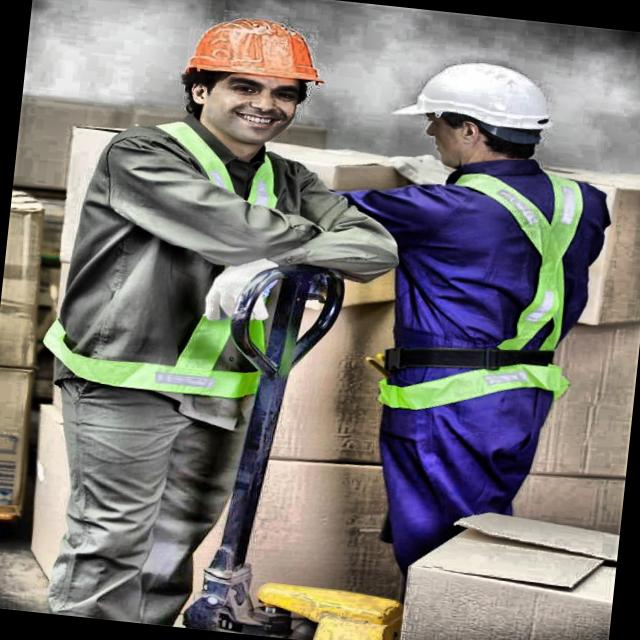helmet: (372, 44, 579, 196), (162, 0, 350, 157)
